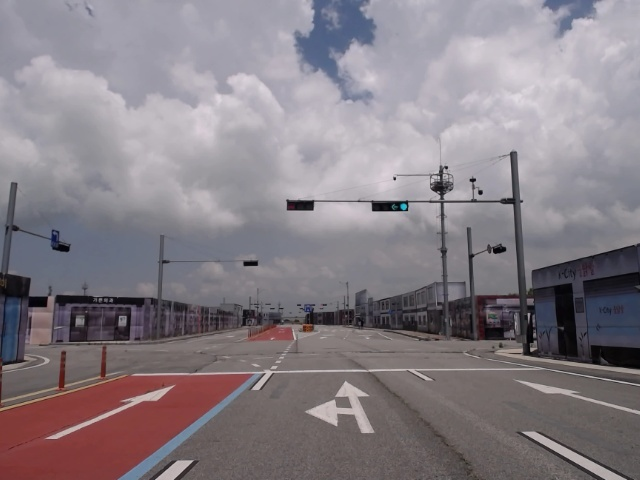all_green_4: (374, 201, 410, 212)
